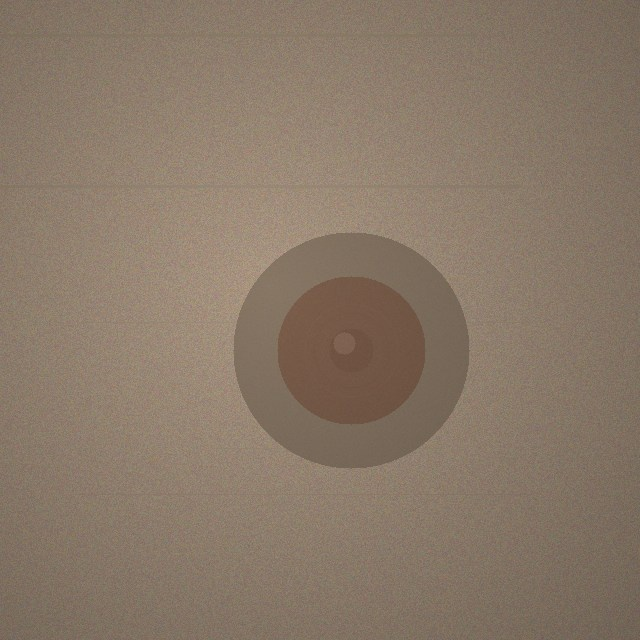good: (233, 232, 469, 468)
